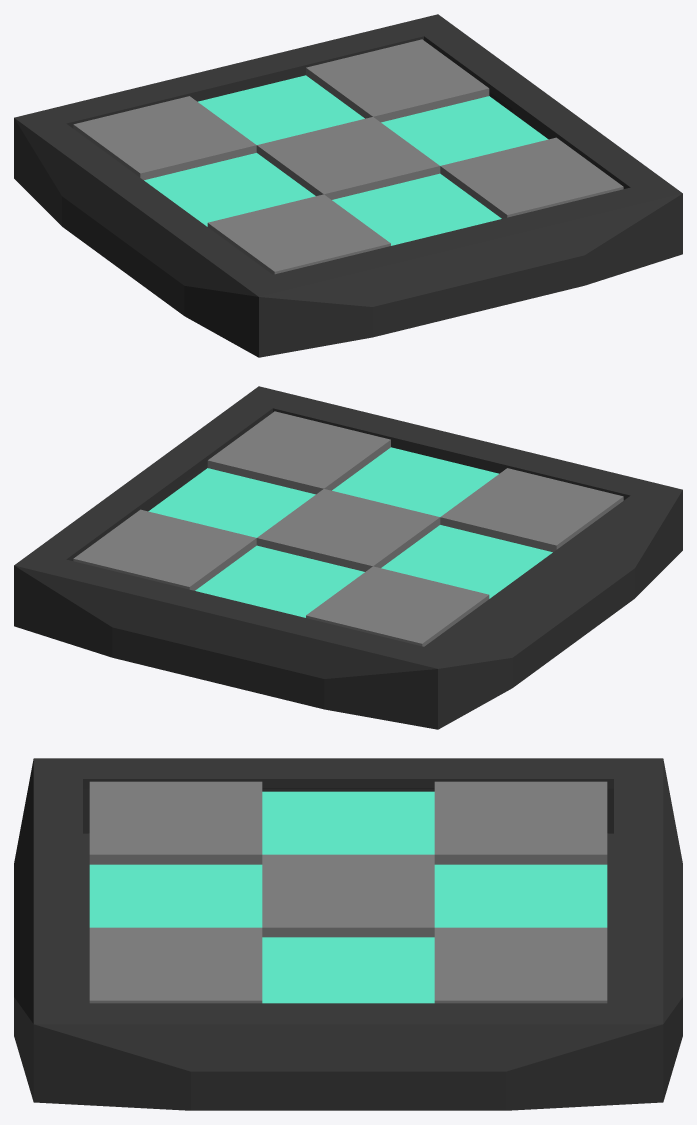
Rendered from MAC.obj.
The picture shows the model from 3 angles, top to bottom: view 1: azimuth 30°, elevation 25°; view 2: azimuth 150°, elevation 25°; view 3: azimuth 270°, elevation 25°; orthographic projection. The views are drawn at different scales.
Visible parts, largest first — view 1: cuboid, cuboid_selection; view 2: cuboid, cuboid_selection; view 3: cuboid, cuboid_selection.
Boxes of the visible parts, x1,y1,x2,y2 form: cuboid: (14, 14, 682, 357); cuboid_selection: (144, 75, 548, 245); cuboid: (14, 386, 682, 729); cuboid_selection: (148, 447, 552, 617); cuboid: (14, 758, 682, 1110); cuboid_selection: (89, 791, 607, 1003).
Size of the model in its own units: 3.88 by 0.5 by 3.88.
